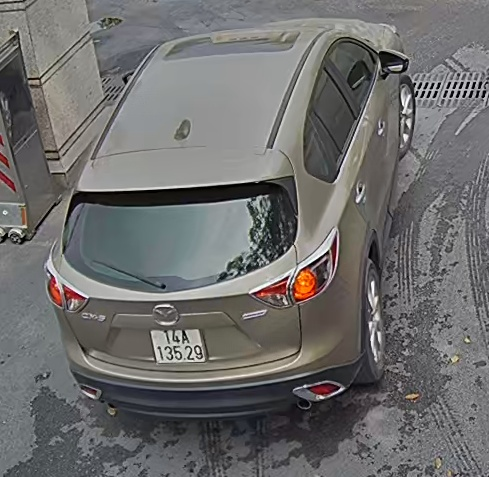vehicle plate: (147, 318, 206, 369)
